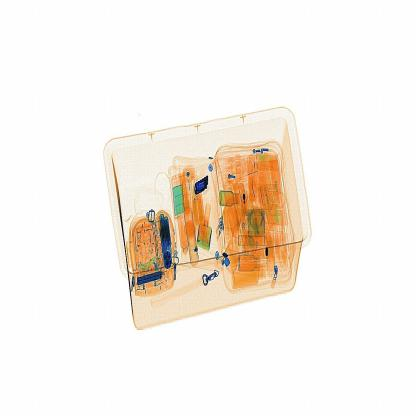knife: (193, 176, 214, 200)
